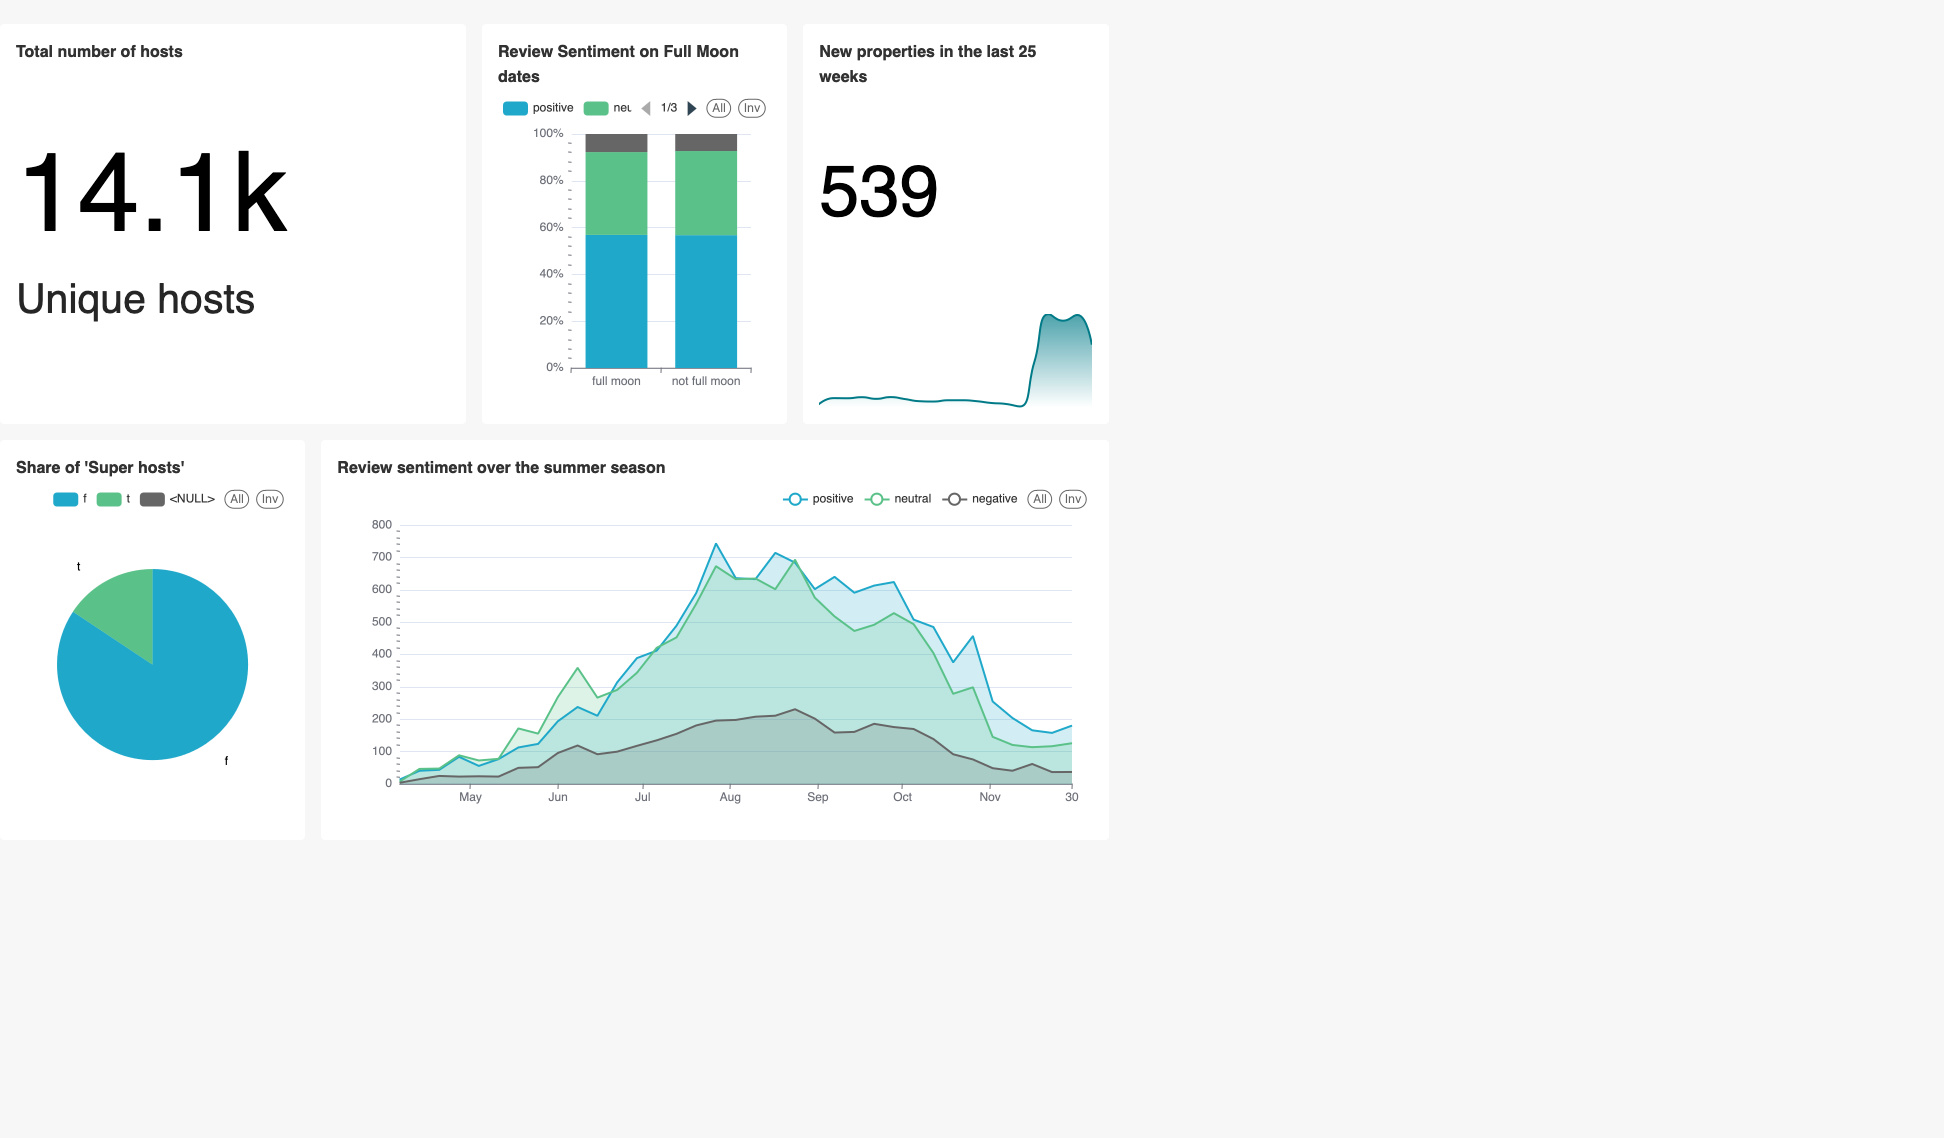

The dashboard page shown, as its layout file describes it:
{"tool":"tableau","page":{"name":"Summary stats","canvas":[1000,800],"ordinal":1},"visuals":[{"type":"blank","box":[8,8,984,32]},{"type":"worksheet","title":"Nr. u Listings","mark":"Automatic","box":[8,40,150,258]},{"type":"worksheet","title":"New listings (wk)","mark":"Area","rows":["LISTING_ID"],"cols":["CREATED_AT"],"box":[158,40,834,258]},{"type":"blank","box":[8,298,984,36]},{"type":"worksheet","title":"SuperH shr","mark":"Pie","box":[8,334,220,257]},{"type":"blank","box":[228,334,22,458]},{"type":"worksheet","title":"Listing types (2)","mark":"Square","rows":["ROOM_TYPE"],"box":[250,334,222,206]},{"type":"blank","box":[472,334,50,458]},{"type":"worksheet","title":"New listings (yr)","mark":"Area","rows":["LISTING_ID"],"cols":["CREATED_AT"],"box":[522,334,470,458]},{"type":"legend","title":"SuperH shr","param":"[federated.0fy481t14suxj81aj3ia71t3bvcg].[none:HOST_IS_SUPERHOST:nk]","box":[16,513,140,62]},{"type":"worksheet","title":"Listing types","mark":"Automatic","box":[250,540,222,247]},{"type":"worksheet","title":"SuperH cnt","mark":"Automatic","rows":["HOST_IS_SUPERHOST"],"box":[8,591,220,105]}]}

Visuals, with their boxes on the page's 1000x800 design canvas (x1, y1, x2, y2). These are canvas units, not pixel positions in the 1944x1138 screenshot, which may show the page scaled, cropped or inside an application window:
blank: <bbox>8, 8, 992, 40</bbox>
"Nr. u Listings" worksheet: <bbox>8, 40, 158, 298</bbox>
"New listings (wk)" worksheet (Area marks): <bbox>158, 40, 992, 298</bbox>
blank: <bbox>8, 298, 992, 334</bbox>
"SuperH shr" worksheet (Pie marks): <bbox>8, 334, 228, 591</bbox>
blank: <bbox>228, 334, 250, 792</bbox>
"Listing types (2)" worksheet (Square marks): <bbox>250, 334, 472, 540</bbox>
blank: <bbox>472, 334, 522, 792</bbox>
"New listings (yr)" worksheet (Area marks): <bbox>522, 334, 992, 792</bbox>
"SuperH shr" legend: <bbox>16, 513, 156, 575</bbox>
"Listing types" worksheet: <bbox>250, 540, 472, 787</bbox>
"SuperH cnt" worksheet: <bbox>8, 591, 228, 696</bbox>
